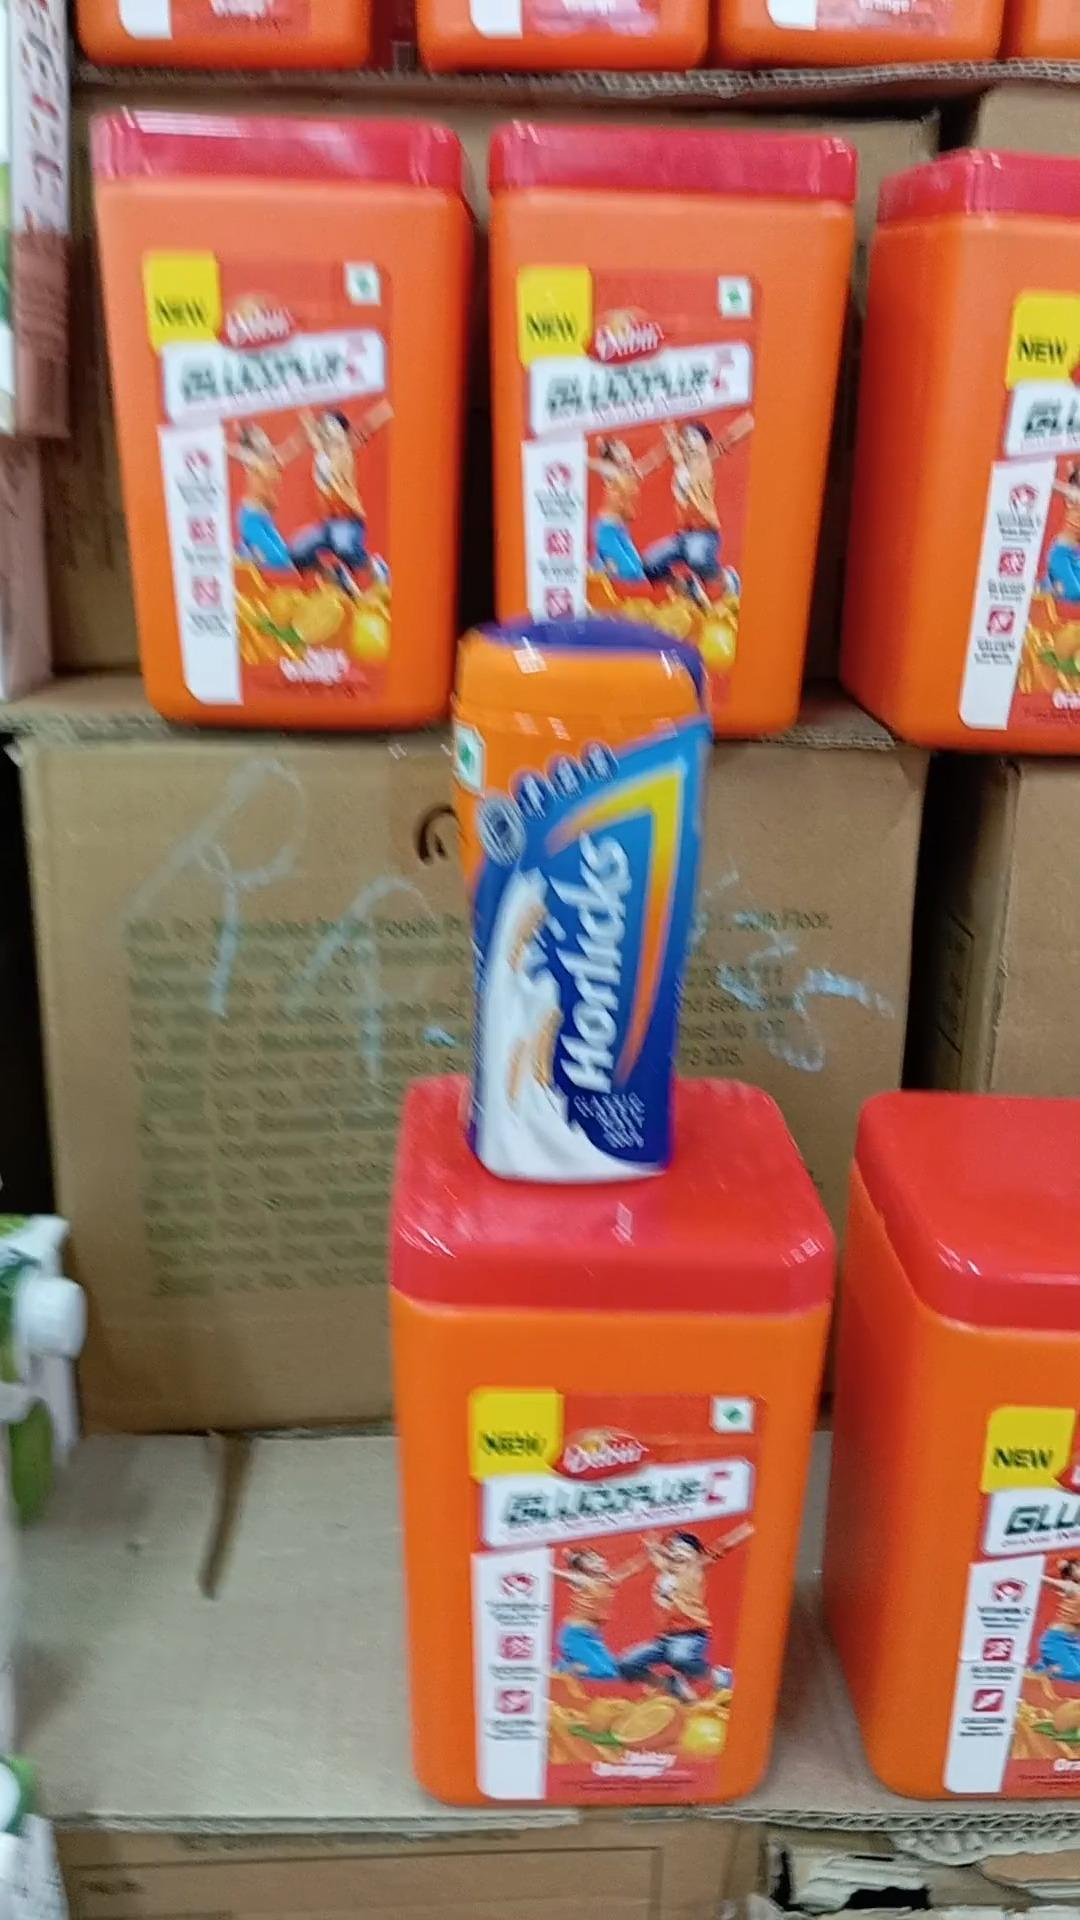HORLICK_CLASSIC_MALT_200_G_JAR: (456, 630, 680, 1184)
